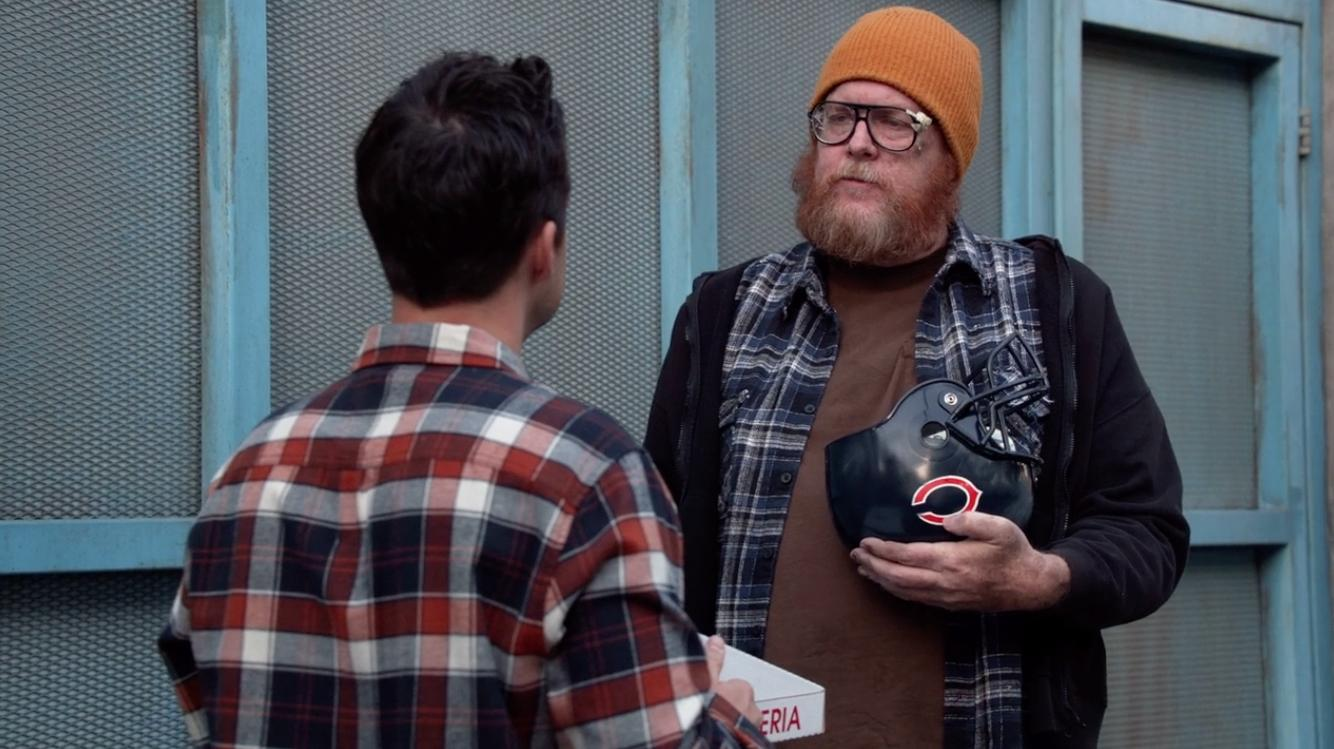person: (187, 62, 759, 740), (667, 9, 1116, 748)
